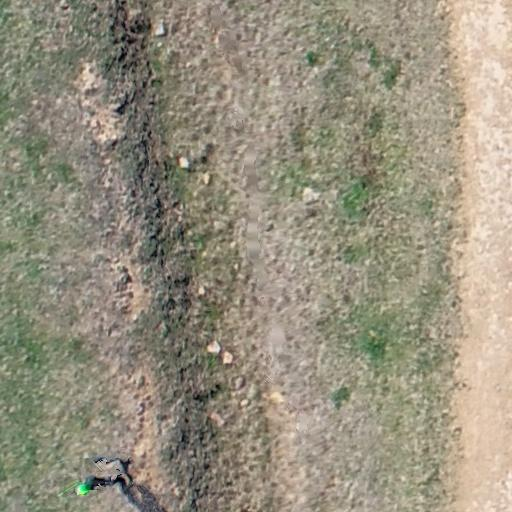stone: (205, 339, 223, 358), (302, 187, 320, 205), (154, 21, 168, 38), (178, 156, 192, 170), (232, 375, 245, 389), (222, 351, 233, 364), (238, 397, 250, 408), (202, 171, 210, 185)
